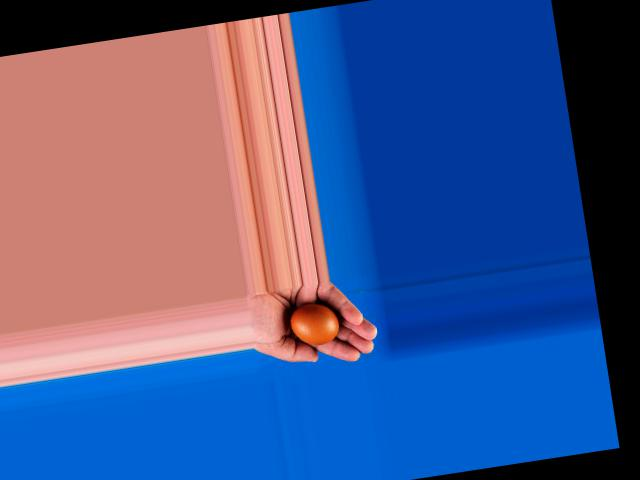egg: (288, 300, 342, 347)
